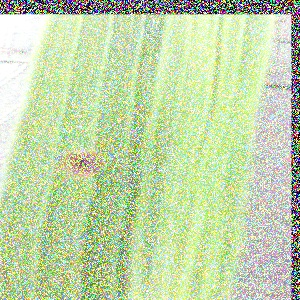Bacterial_Leaf_Blight: (57, 141, 114, 187), (29, 115, 47, 126), (50, 150, 62, 162)
